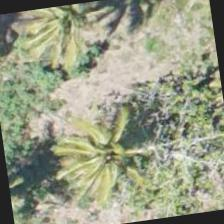Kelapa_Sawit: (68, 104, 170, 206), (20, 0, 118, 68)
